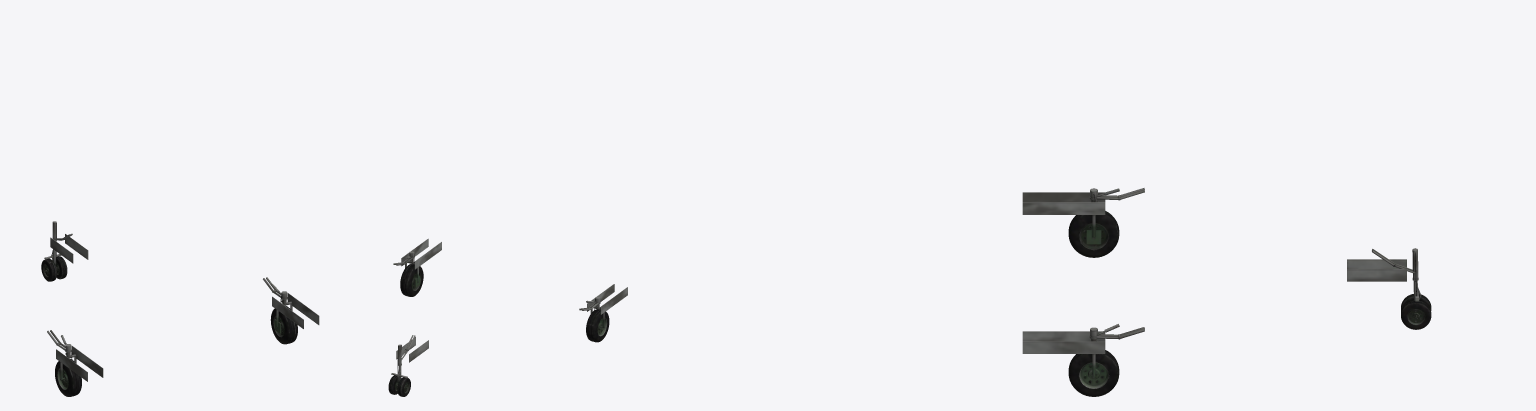
The model's file is e_il28_gear.glb.
The picture shows the model from 3 angles, left to right: view 1: azimuth 30°, elevation 25°; view 2: azimuth 150°, elevation 25°; view 3: azimuth 270°, elevation 25°; orthographic projection. The views are drawn at different scales.
Parts seen in each view (by area): view 1: body|IL_paint; view 2: body|IL_paint; view 3: body|IL_paint.
Part boxes in pixels (x1,y1,x2,y2): body|IL_paint: (41,221,319,396); body|IL_paint: (388,238,627,396); body|IL_paint: (1022,188,1431,396).
Bounding box in the file's own units: 7.68 × 7.47 × 18.49.
1 material, 1 textured.
